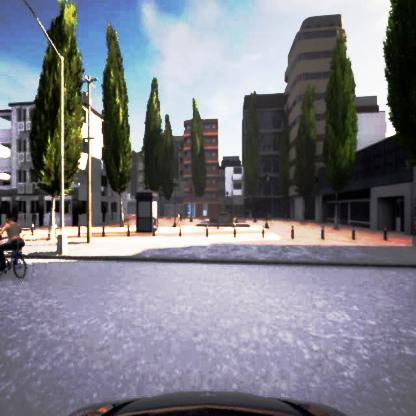bike: (0, 214, 28, 284)
